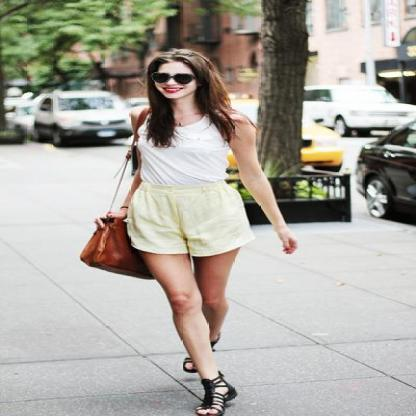bag: (80, 214, 153, 279)
dress: (112, 118, 249, 257)
shoe: (194, 374, 237, 416)
